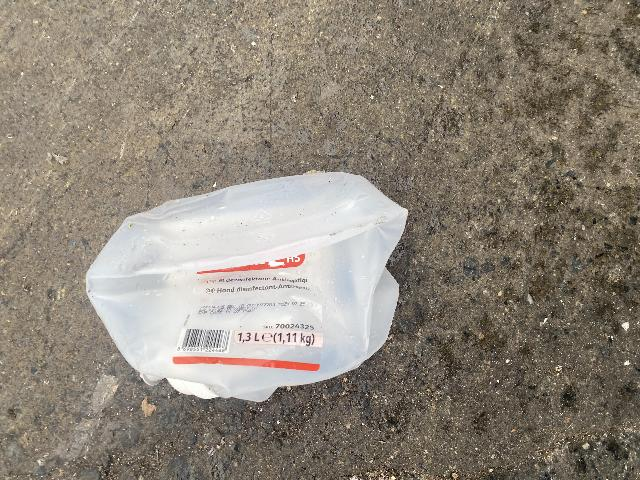Plastik: (100, 179, 410, 390)
